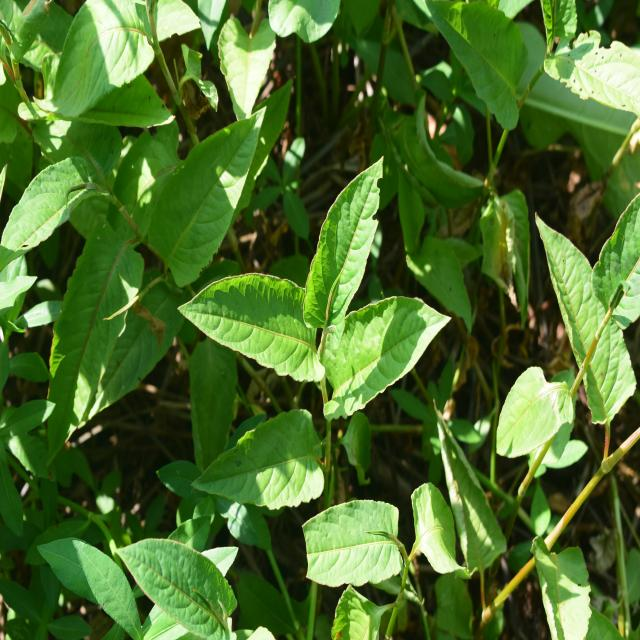Chinese_knotweed: (197, 178, 421, 504)
